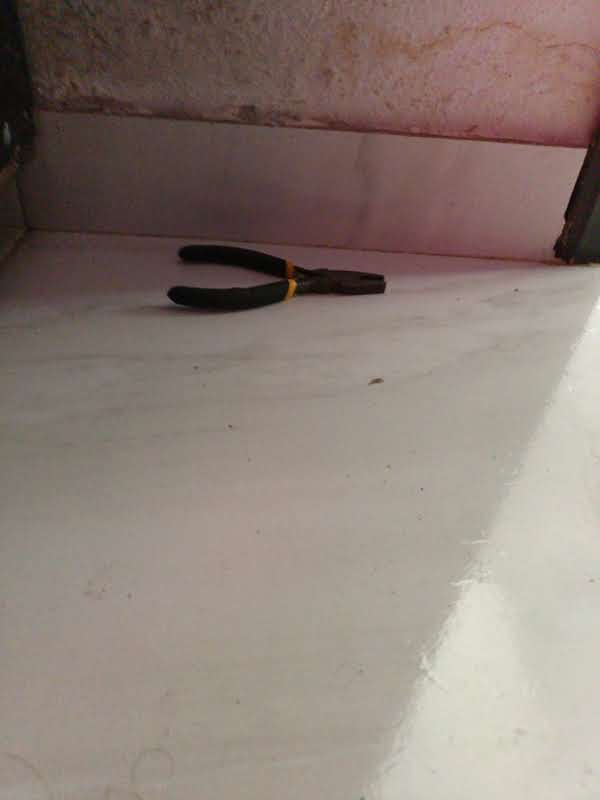Pinzas: (166, 243, 385, 312)
